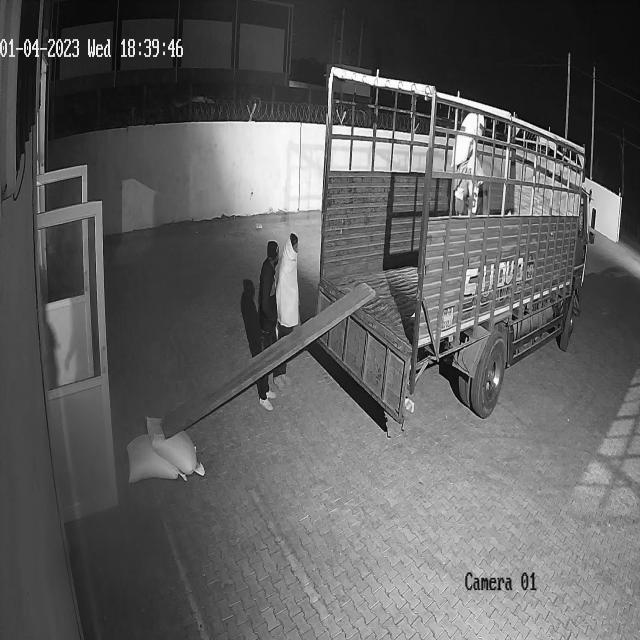sack: (145, 414, 197, 476), (126, 434, 182, 482), (452, 113, 486, 167)
